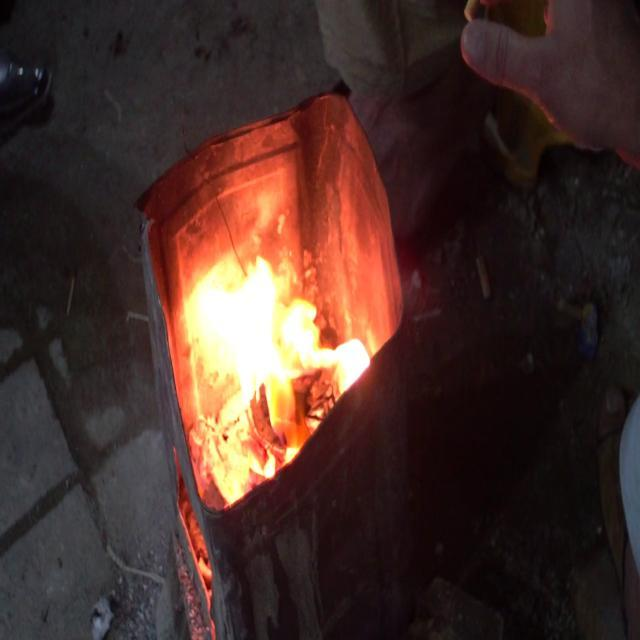Fire: (180, 221, 374, 442)
